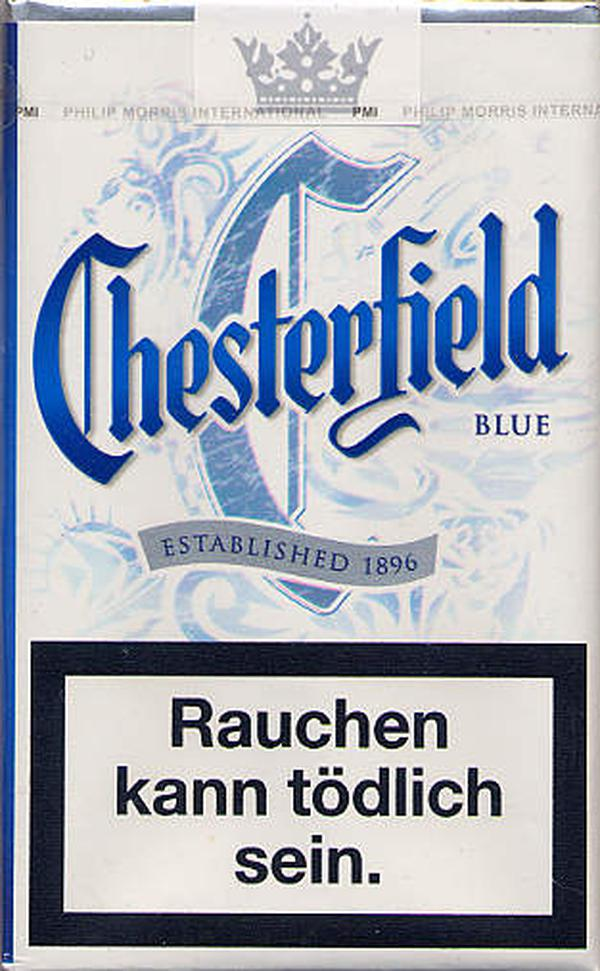chesterfield_blue: (6, 24, 590, 962)
